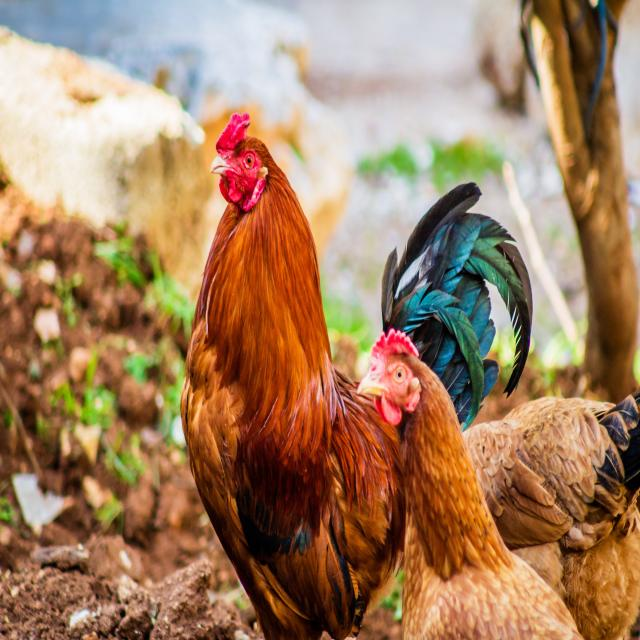chicken: (199, 98, 521, 572), (301, 283, 630, 640)
